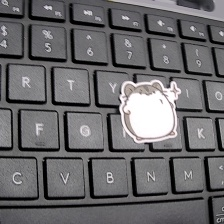mouse: (121, 80, 182, 144)
